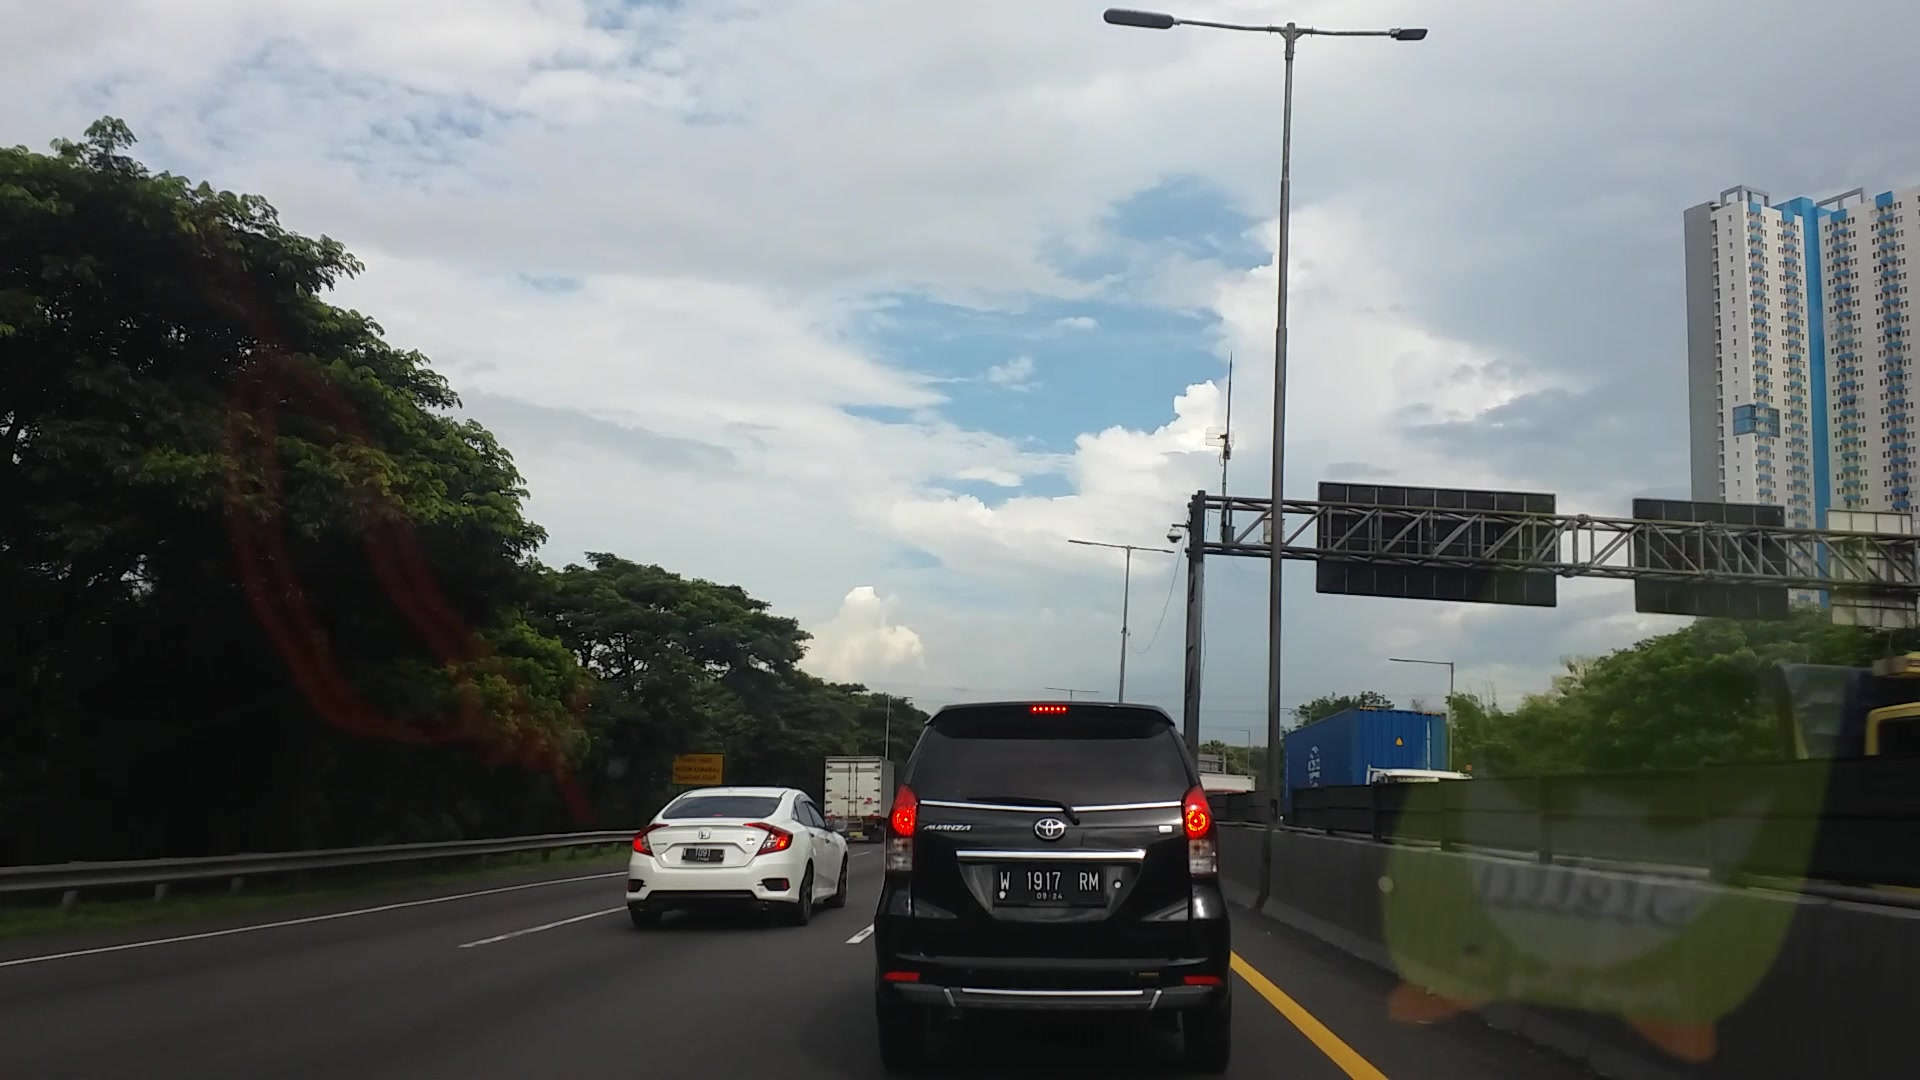plate_positive: (996, 866, 1102, 902)
